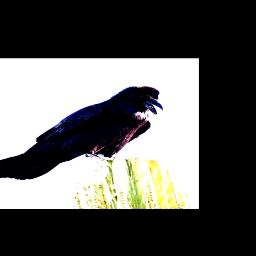Crow: (0, 86, 163, 180)
